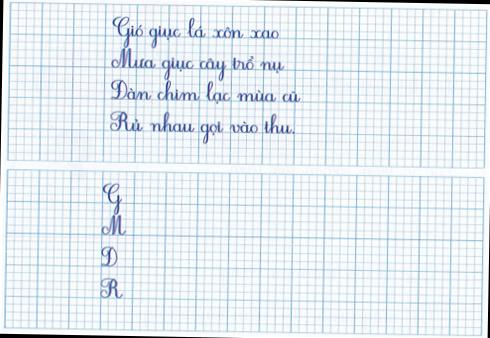text: (106, 109, 296, 147), (110, 47, 286, 84), (110, 16, 281, 52), (108, 78, 303, 108), (101, 181, 123, 216), (101, 214, 126, 238), (98, 278, 123, 300), (99, 246, 119, 268)
